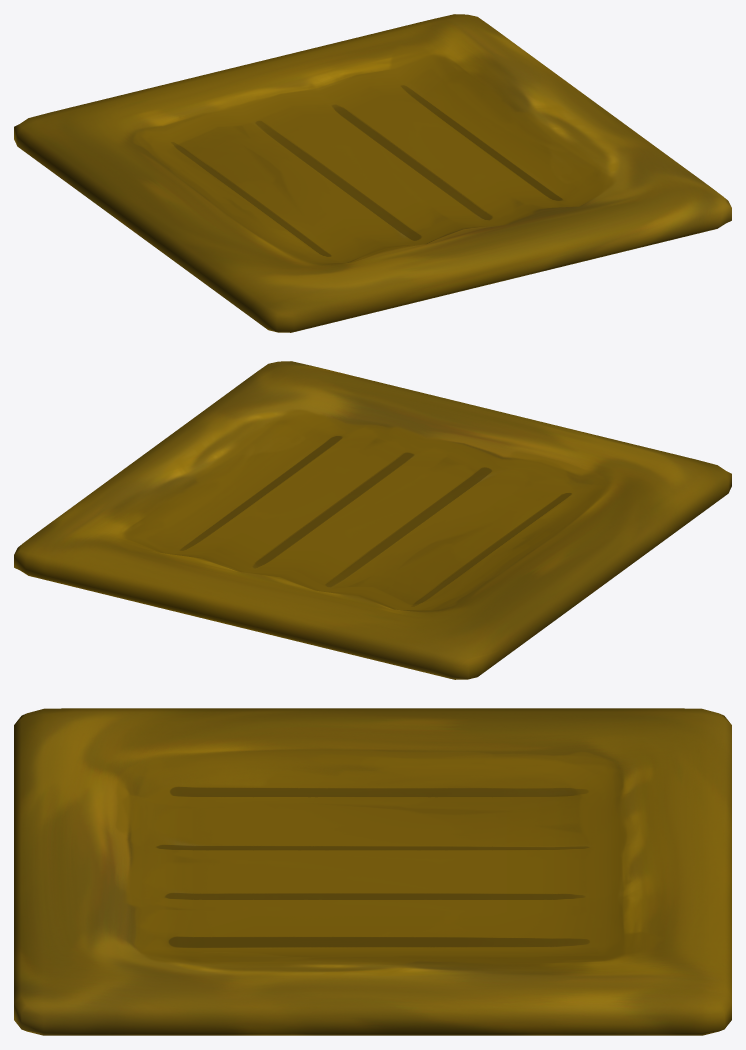
The model's file is Farm.fbx.
3 views of the same model, one above another, from view 1: azimuth 30°, elevation 25°; view 2: azimuth 150°, elevation 25°; view 3: azimuth 270°, elevation 25° (orthographic). The views are drawn at different scales.
Parts seen in each view (by area): view 1: Cube; view 2: Cube; view 3: Cube.
Part boxes in pixels (x1,y1,x2,y2): Cube: (14,14,731,332); Cube: (14,361,731,679); Cube: (14,708,731,1035).
Bounding box in the file's own units: 200 × 11.92 × 200.
